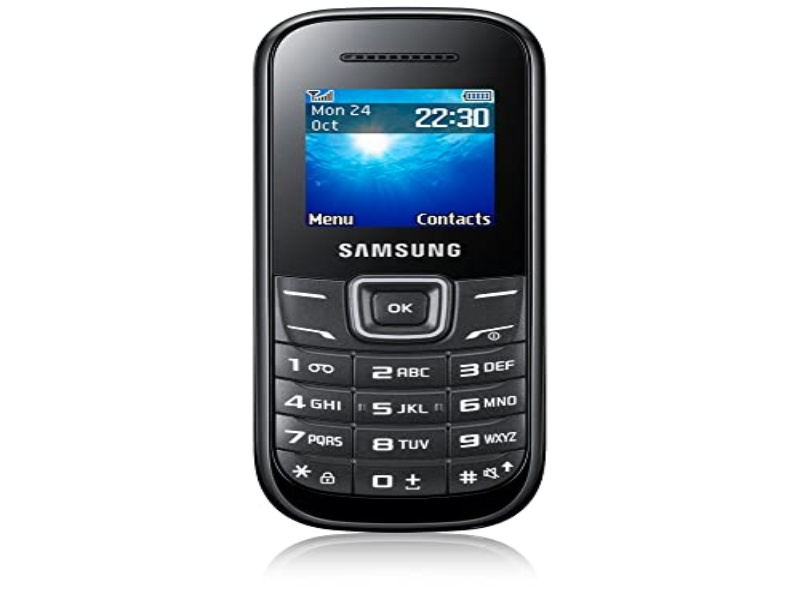mobile: (242, 4, 558, 553)
